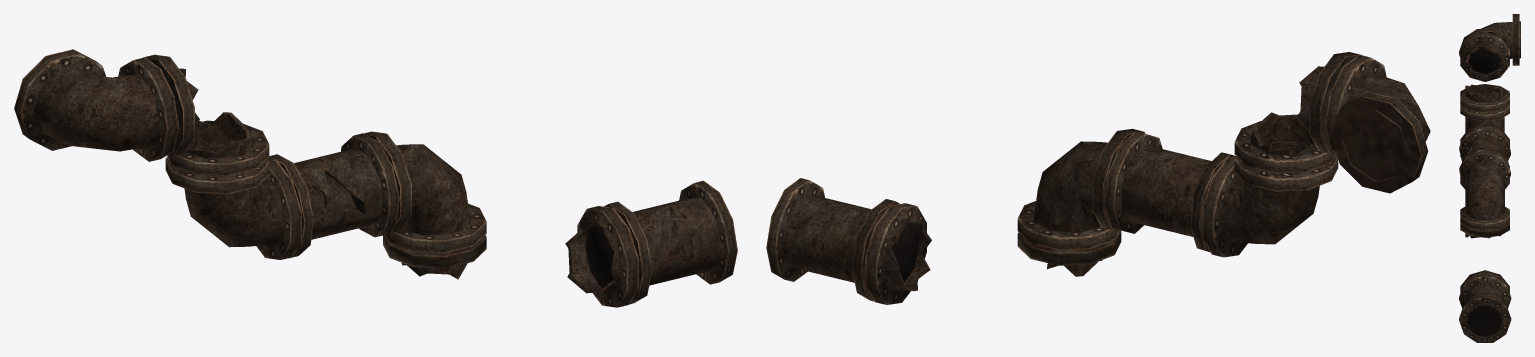
The model's file is cell_room_broken_pipe.dae.
3 renders of one model, left to right at view 1: azimuth 30°, elevation 25°; view 2: azimuth 150°, elevation 25°; view 3: azimuth 270°, elevation 25°, orthographic. The views are drawn at different scales.
Visible parts, largest first — view 1: polySurface53; view 2: polySurface53; view 3: polySurface53.
Boxes of the visible parts, x1,y1,x2,y2 form: polySurface53: (14, 49, 737, 307); polySurface53: (766, 52, 1430, 304); polySurface53: (1459, 14, 1520, 342).
Size of the model in its own units: 5.36 by 2.73 by 0.864.
Materials: 1 (1 with a texture image).
